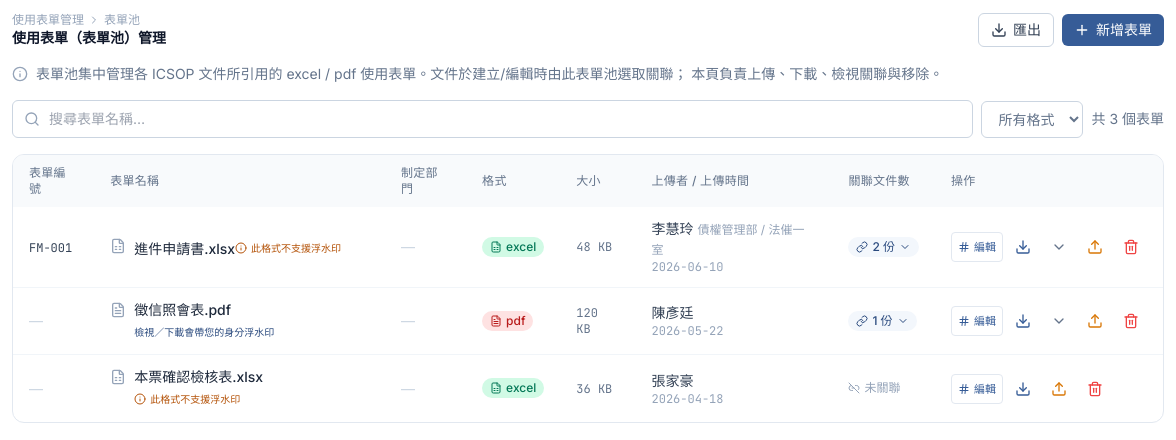
Test: UsageFormManagementPage — 使用表單管理（F018） › 搜尋表單名稱 → 過濾清單
Check: the text "進件申請書.xlsx" is shown, box [134,240,235,256]
Type "徵信" into the search field labelled "搜尋表單名稱" at point(493, 119), box [12,100,974,138]
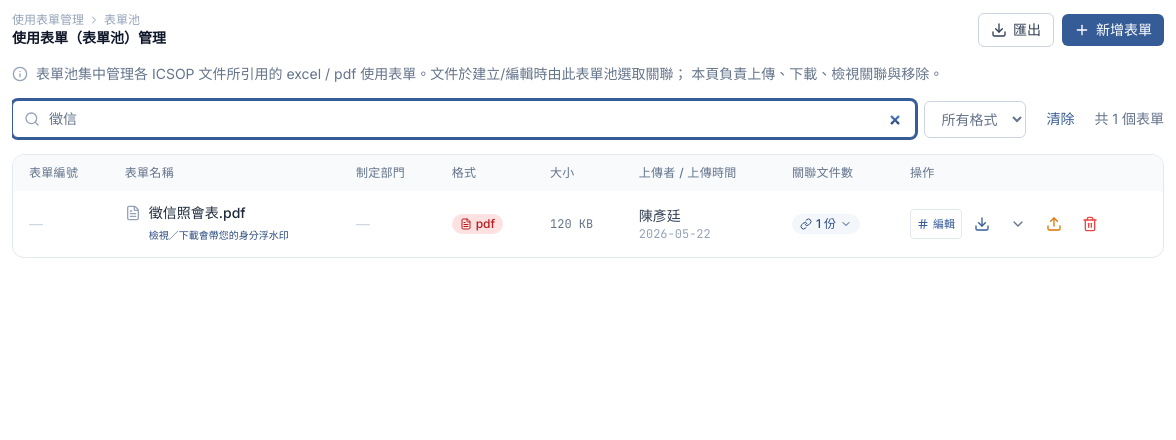
Check: the text "徵信照會表.pdf" is shown, box [149,204,246,221]
Check: the text "進件申請書.xlsx" is gone
Check: the text "共 1 個表單" is shown, box [1094,109,1164,129]
